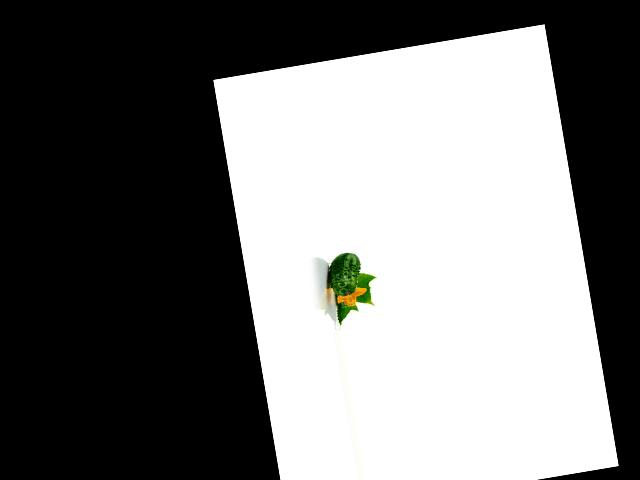cucumber: (325, 250, 364, 297)
